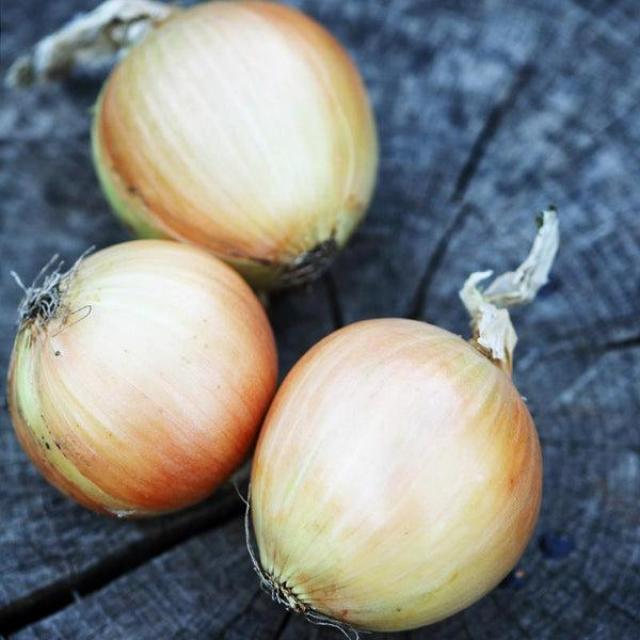Onion: (245, 318, 543, 639), (90, 1, 380, 294), (6, 239, 282, 522)
